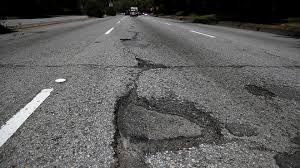pothole: (111, 88, 219, 152)
